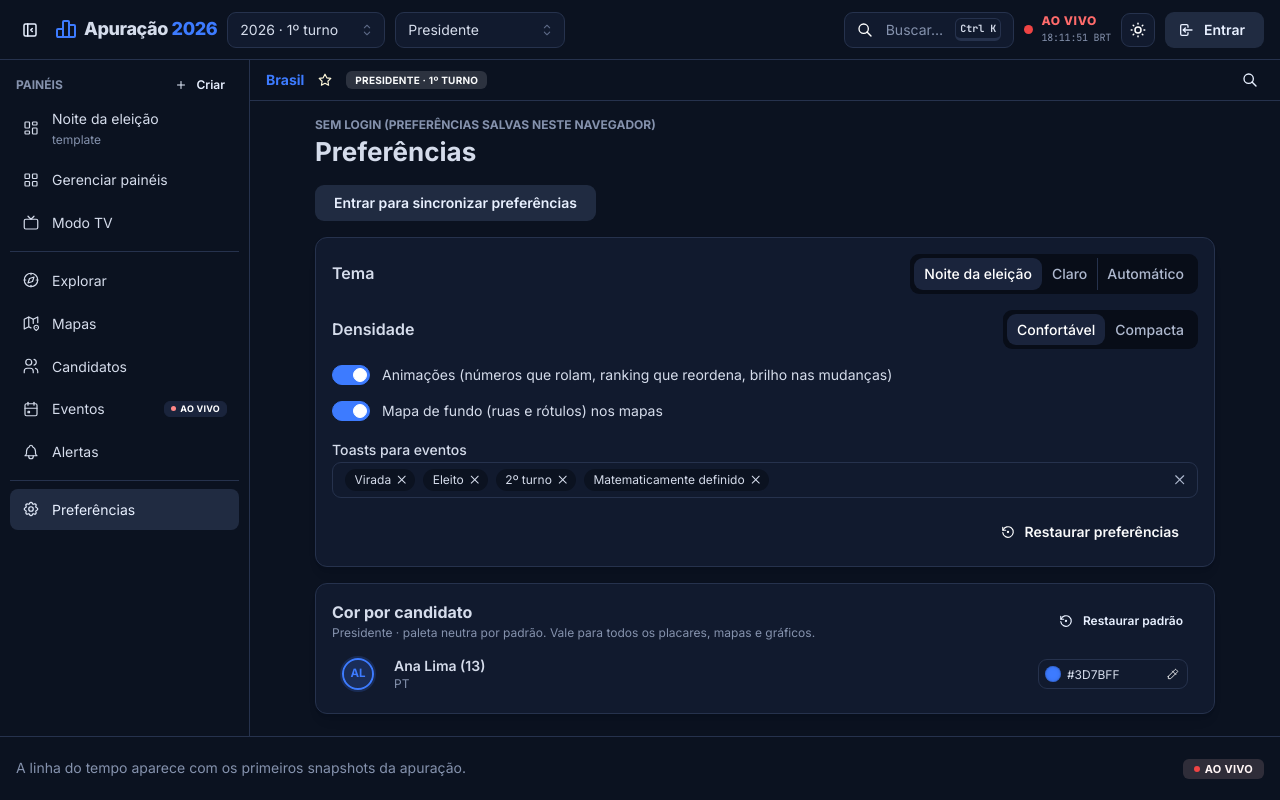
Scenario: sign-in modal › asks the user to wait when the API answers 429
Step 1. Click the button "Entrar para sincronizar preferências" → (455, 203), box 315,185 -> 596,221
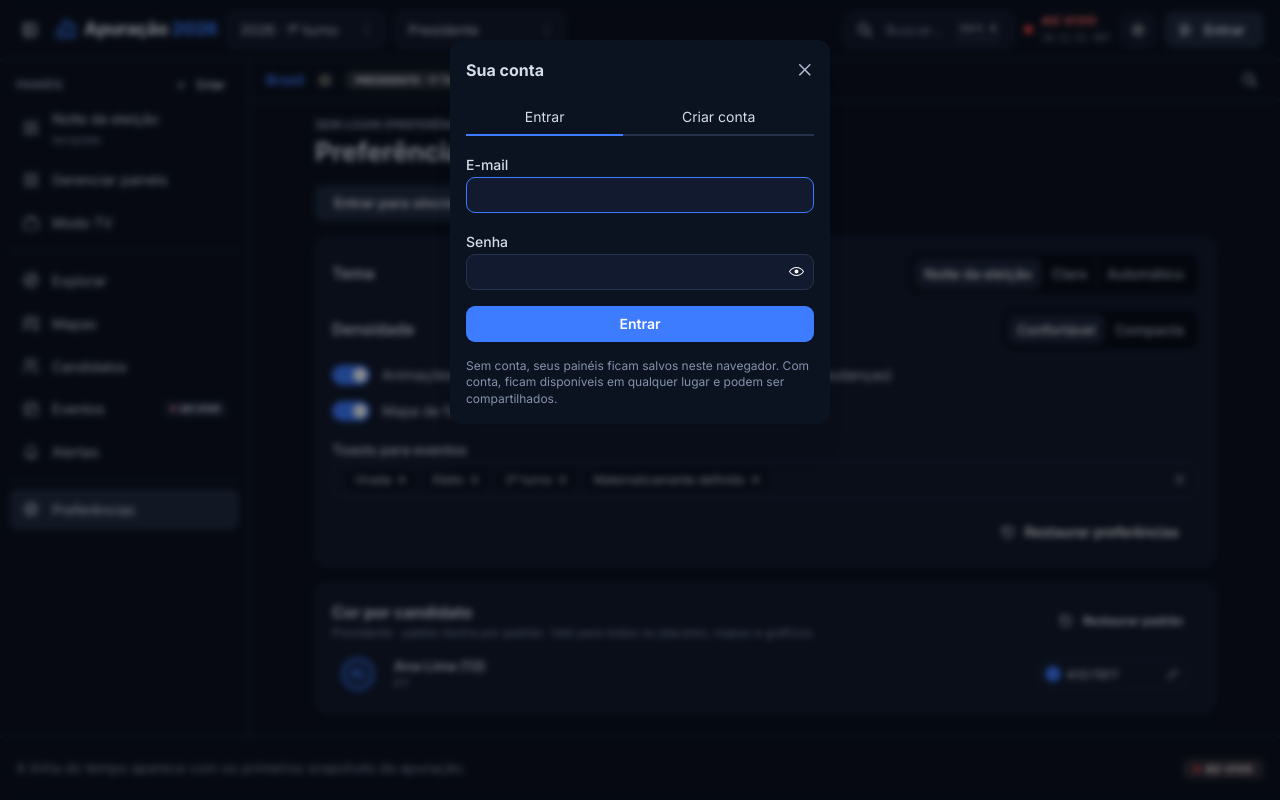
Step 2. Type "eleitor@example.com" into the field labelled "E-mail" → (640, 195), box 466,177 -> 814,213
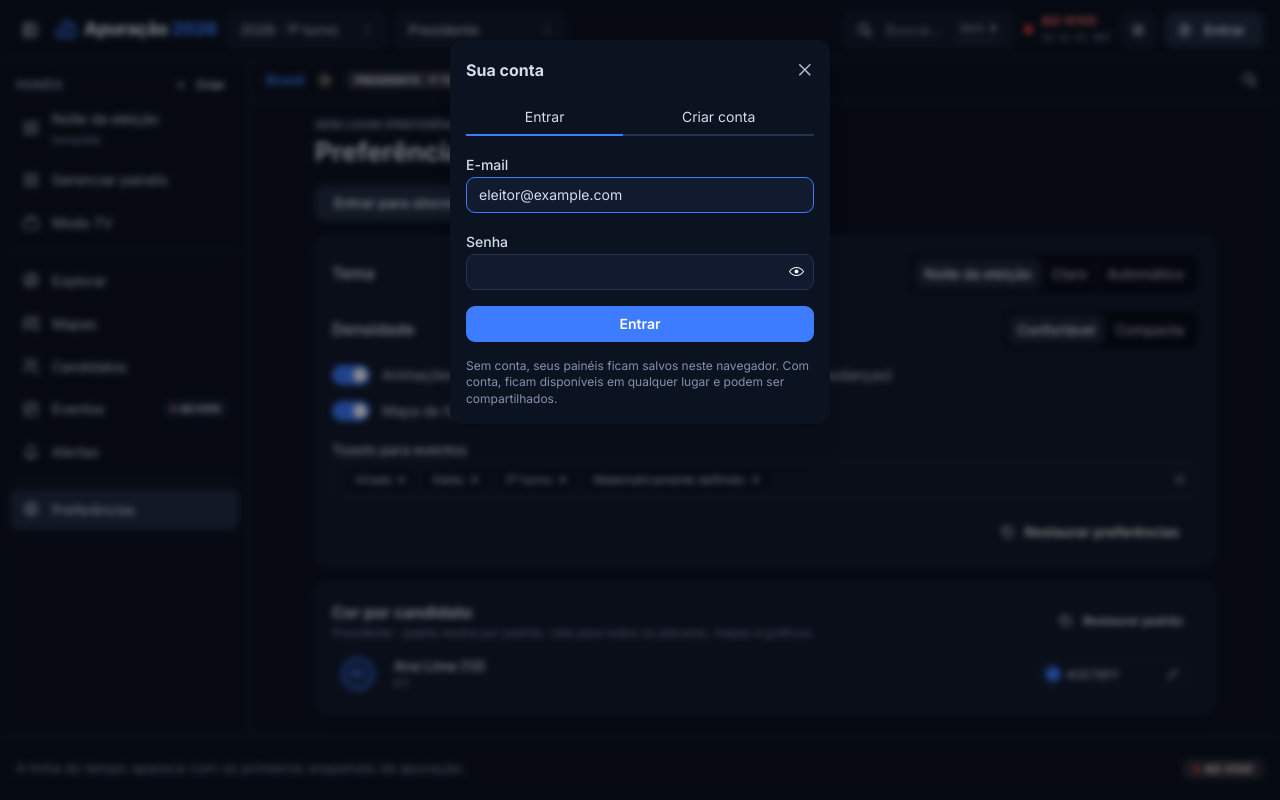
Step 3. Type "senha-certa" into the password field labelled "Senha" → (640, 272), box 467,255 -> 813,289
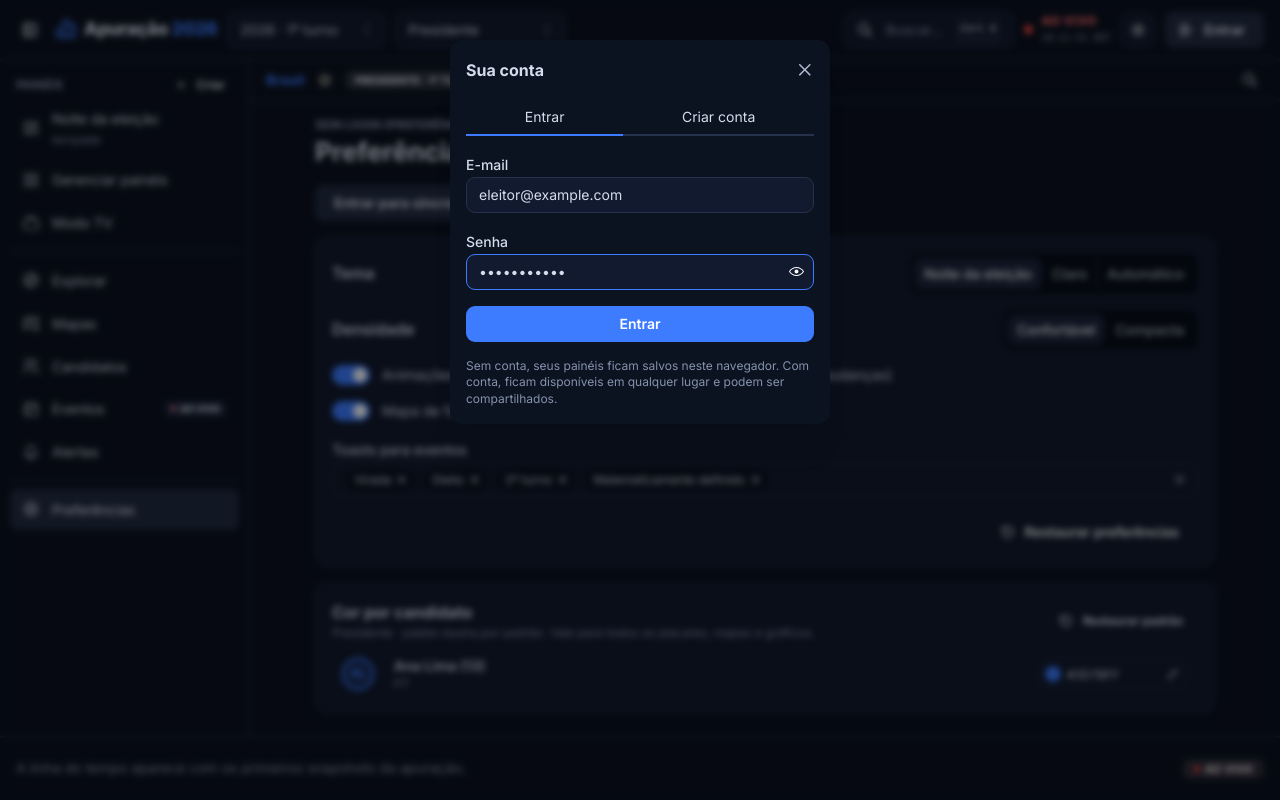
Step 4. Click the button "Entrar" → (640, 324), box 466,306 -> 814,342
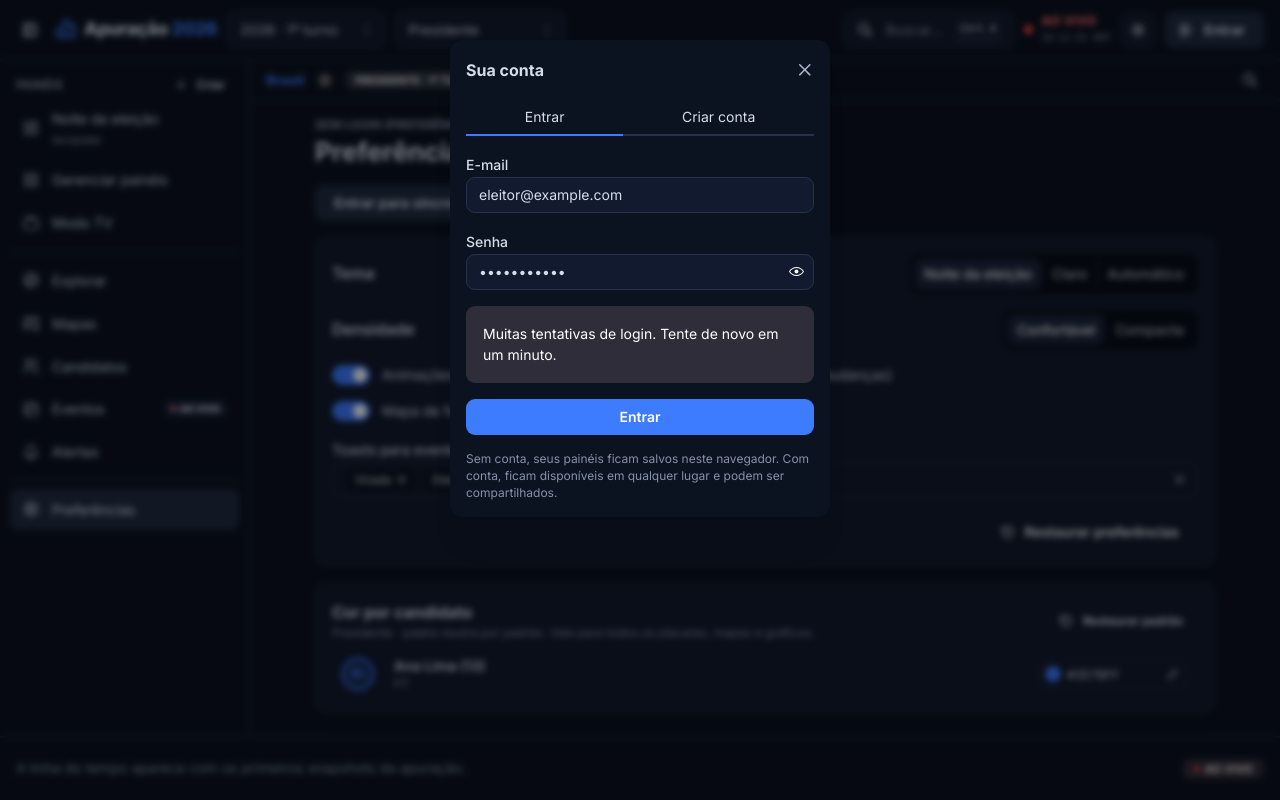
Check: the text "Muitas tentativas de login. Tente de novo em um minuto." is shown, box 483,323 -> 797,366
